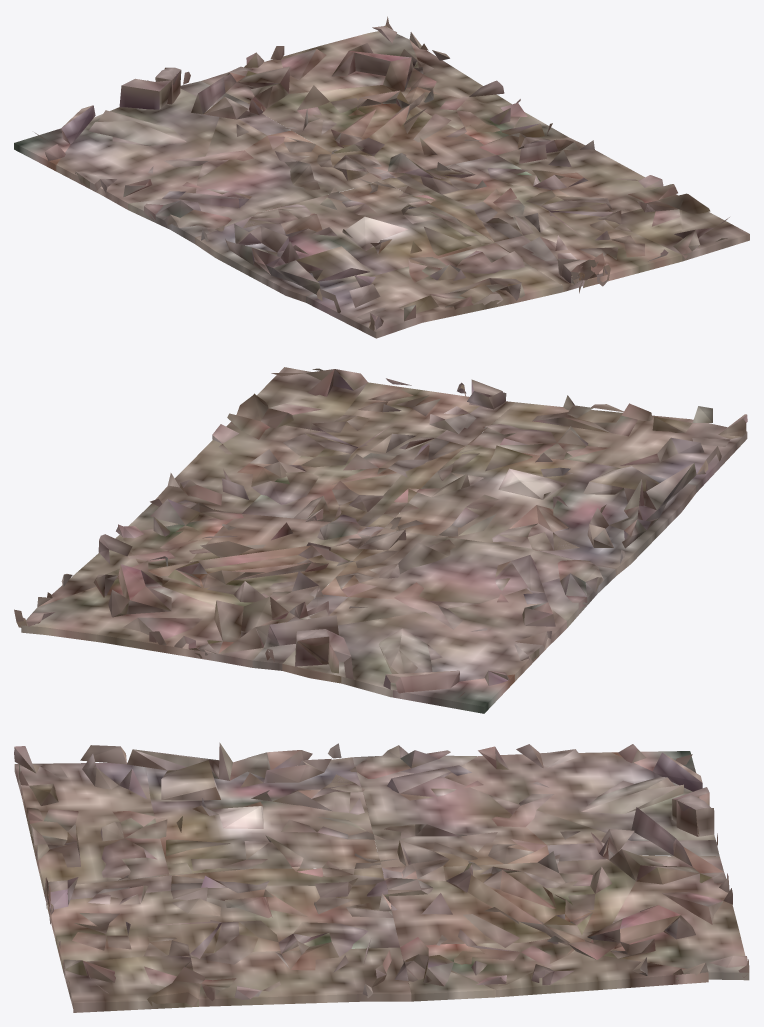
The picture shows the model from 3 angles, top to bottom: view 1: azimuth 30°, elevation 25°; view 2: azimuth 150°, elevation 25°; view 3: azimuth 270°, elevation 25°; orthographic projection. The views are drawn at different scales.
Visible parts, largest first — view 1: Mesh_0; view 2: Mesh_0; view 3: Mesh_0.
Part boxes in pixels (x1,y1,x2,y2): Mesh_0: (14,16,749,338); Mesh_0: (14,367,747,713); Mesh_0: (14,742,749,1012).
Size of the model in its own units: 532 by 60.21 by 660.
Materials: 1 (1 with a texture image).
